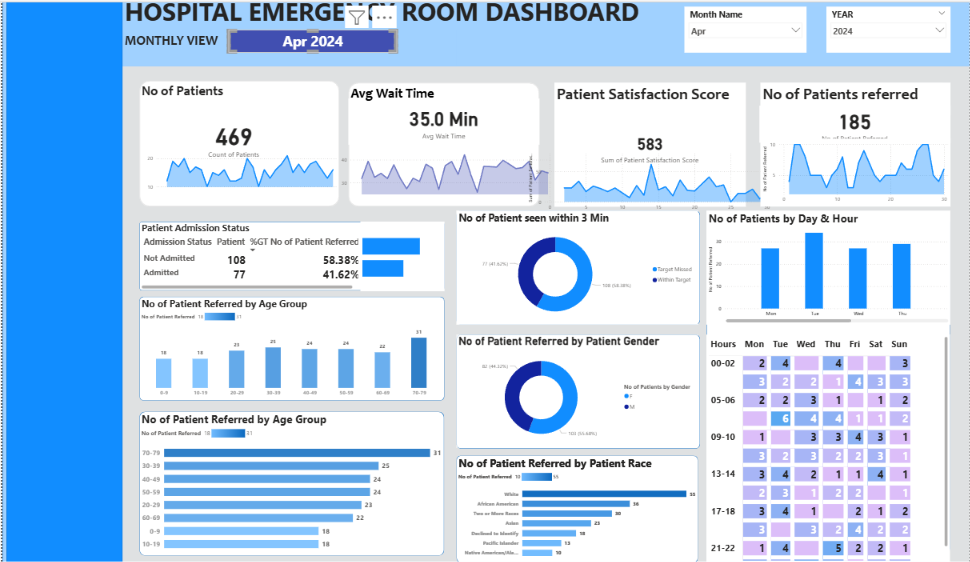

This screenshot's page, from the dashboard's own definition file:
{"tool":"powerbi","page":{"name":"Page 1","canvas":[2300,1400],"ordinal":0},"visuals":[{"type":"shape","box":[0,0,285.3,1400.5],"z":0},{"type":"shape","box":[325.7,254.4,475.5,299.6],"z":1000},{"type":"textbox","box":[325.7,254.4,675.3,202.1],"z":2000},{"type":"shape","box":[286,0,2014.5,219.4],"z":3000},{"type":"textbox","box":[286,44.4,2014.5,175.1],"z":4000},{"type":"textbox","box":[286,133.1,794,86.3],"z":5000},{"type":"shape","box":[9.9,0,276.2,1400.5],"z":6000},{"type":"card","fields":{"Values":["Hospital ER_Data.Count of Patients"]},"box":[299.6,335.3,501.7,111.8],"z":7000},{"type":"slicer","fields":{"Values":["Date Table.YEAR"]},"box":[1959.2,78.5,294.8,109.4],"z":8000},{"type":"slicer","fields":{"Values":["Date Table.Month Name"]},"box":[1621.6,78.5,290.1,109.4],"z":9000},{"type":"areaChart","fields":{"Category":["Date Table.Date.Variation.Date Hierarchy.Day"],"Y":["Hospital ER_Data.Count of Patients"]},"box":[340,392.3,461.3,128.4],"z":10000},{"type":"card","fields":{"Values":["Min(Date Table.Month & Year)"]},"box":[537.4,133.2,401.8,54.7],"z":11000},{"type":"shape","box":[822.7,259.2,454.1,294.8],"z":12000},{"type":"card","fields":{"Values":["Hospital ER_Data.Avg Wait Time"]},"box":[822.7,297.2,454.1,109.4],"z":13000},{"type":"shape","box":[1802.3,259.2,451.8,294.8],"z":14000},{"type":"textbox","box":[822.7,259.2,489.8,76.1],"z":15000},{"type":"areaChart","fields":{"Category":["Date Table.Date.Variation.Date Hierarchy.Day"],"Y":["Avg(Hospital ER_Data.Patient Waittime)"]},"box":[801.3,401.8,511.2,128.4],"z":16000},{"type":"textbox","box":[1312.5,259.2,455,294.8],"z":17000},{"type":"card","fields":{"Values":["Sum(Hospital ER_Data.Patient Satisfaction Score)"]},"box":[1312.5,356.7,454.1,114.1],"z":18000},{"type":"areaChart","fields":{"Category":["Date Table.Date.Variation.Date Hierarchy.Day"],"Y":["Sum(Hospital ER_Data.Patient Satisfaction Score)"]},"box":[1245.9,413.7,587.3,159.3],"z":19000},{"type":"shape","box":[325.7,589.7,725.2,164.1],"z":20000},{"type":"pivotTable","title":"Patient Admission Status","fields":{"Rows":["Hospital ER_Data.Admission Status"],"Values":["Hospital ER_Data.No of Patient Referred1","Hospital ER_Data.No of Patient Referred"]},"box":[325.5,589.3,525.2,165.2],"z":21000},{"type":"shape","box":[325.7,768,725.2,247.3],"z":22000},{"type":"card","fields":{"Values":["Hospital ER_Data.No of Patient Referred"]},"box":[1799.9,313.9,454.1,88],"z":23000},{"type":"textbox","box":[1802.3,259.2,451.8,76.1],"z":24000},{"type":"areaChart","fields":{"Y":["Hospital ER_Data.No of Patient Referred"],"Category":["Date Table.Date.Variation.Date Hierarchy.Day"]},"box":[1802.3,392.3,451.8,161.7],"z":25000},{"type":"barChart","fields":{"Category":["Hospital ER_Data.Admission Status"],"Y":["Hospital ER_Data.No of Patient Referred"]},"box":[1277.2,577,165.2,123.3],"z":26000},{"type":"clusteredColumnChart","fields":{"Category":["Hospital ER_Data.Age Group"],"Y":["Hospital ER_Data.No of Patient Referred"]},"box":[325.7,768,725.2,247.3],"z":27000},{"type":"shape","box":[325.5,1040.5,724.9,342.7],"z":28000},{"type":"clusteredBarChart","fields":{"Y":["Hospital ER_Data.No of Patient Referred"],"Category":["Hospital ER_Data.Age Group"]},"box":[325.5,1040.5,724.9,342.7],"z":29000},{"type":"shape","box":[1080,564.6,579.4,271.2],"z":30000},{"type":"shape","box":[1080,858.1,579.4,271.2],"z":31000},{"type":"shape","box":[1080,1146.6,574.5,254],"z":32000},{"type":"donutChart","fields":{"Category":["Hospital ER_Data.Patient Gender"],"Y":["Hospital ER_Data.No of Patient Referred"]},"box":[1080,858.1,574.5,268.8],"z":33000},{"type":"clusteredBarChart","fields":{"Category":["Hospital ER_Data.Patient Race"],"Y":["Hospital ER_Data.No of Patient Referred"]},"box":[1080,1146.6,574.5,254],"z":34000},{"type":"shape","box":[1674.2,574.5,579.4,808.8],"z":35000},{"type":"clusteredBarChart","fields":{"Category":["Hospital ER_Data.Patient Race"],"Y":["Hospital ER_Data.No of Patient Referred"]},"box":[1080,1146,574.5,254],"z":36000},{"type":"pivotTable","fields":{"Rows":["Hospital ER_Data.Waittime Interval"],"Columns":["Date Table.Day Nmae"],"Values":["Hospital ER_Data.No of Patient Referred"]},"box":[1674.2,858.1,579.4,542.5],"z":37000},{"type":"columnChart","title":"No of Patients by Day & Hour","fields":{"Category":["Date Table.Day Nmae"],"Y":["Hospital ER_Data.No of Patient Referred"]},"box":[1673.9,563.5,580.2,271.1],"z":38000},{"type":"donutChart","title":"No of Patient seen within 3 Min","fields":{"Category":["Hospital ER_Data.Waititime Status"],"Y":["Hospital ER_Data.No of Patient Referred"]},"box":[1080,564.6,574.5,271.2],"z":39000},{"type":"barChart","fields":{"Y":["Hospital ER_Data.No of Patient Referred"],"Category":["Hospital ER_Data.Admission Status"]},"box":[850.7,589.3,199.7,165.2],"z":40000}]}

Visuals, with their boxes on the page's 2300x1400 design canvas (x1, y1, x2, y2). These are canvas units, not pixel positions in the 970x562 screenshot, which may show the page scaled, cropped or inside an application window:
shape: {"left": 0, "top": 0, "right": 285, "bottom": 1400}
shape: {"left": 326, "top": 254, "right": 801, "bottom": 554}
textbox: {"left": 326, "top": 254, "right": 1001, "bottom": 456}
shape: {"left": 286, "top": 0, "right": 2300, "bottom": 219}
textbox: {"left": 286, "top": 44, "right": 2300, "bottom": 220}
textbox: {"left": 286, "top": 133, "right": 1080, "bottom": 219}
shape: {"left": 10, "top": 0, "right": 286, "bottom": 1400}
card - Hospital ER_Data.Count of Patients: {"left": 300, "top": 335, "right": 801, "bottom": 447}
slicer - Date Table.YEAR: {"left": 1959, "top": 78, "right": 2254, "bottom": 188}
slicer - Date Table.Month Name: {"left": 1622, "top": 78, "right": 1912, "bottom": 188}
areaChart - Date Table.Date.Variation.Date Hierarchy.Day x Hospital ER_Data.Count of Patients: {"left": 340, "top": 392, "right": 801, "bottom": 521}
card - Min(Date Table.Month & Year): {"left": 537, "top": 133, "right": 939, "bottom": 188}
shape: {"left": 823, "top": 259, "right": 1277, "bottom": 554}
card - Hospital ER_Data.Avg Wait Time: {"left": 823, "top": 297, "right": 1277, "bottom": 407}
shape: {"left": 1802, "top": 259, "right": 2254, "bottom": 554}
textbox: {"left": 823, "top": 259, "right": 1312, "bottom": 335}
areaChart - Date Table.Date.Variation.Date Hierarchy.Day x Avg(Hospital ER_Data.Patient Waittime): {"left": 801, "top": 402, "right": 1312, "bottom": 530}
textbox: {"left": 1312, "top": 259, "right": 1768, "bottom": 554}
card - Sum(Hospital ER_Data.Patient Satisfaction Score): {"left": 1312, "top": 357, "right": 1767, "bottom": 471}
areaChart - Date Table.Date.Variation.Date Hierarchy.Day x Sum(Hospital ER_Data.Patient Satisfaction Score): {"left": 1246, "top": 414, "right": 1833, "bottom": 573}
shape: {"left": 326, "top": 590, "right": 1051, "bottom": 754}
"Patient Admission Status" pivotTable: {"left": 326, "top": 589, "right": 851, "bottom": 754}
shape: {"left": 326, "top": 768, "right": 1051, "bottom": 1015}
card - Hospital ER_Data.No of Patient Referred: {"left": 1800, "top": 314, "right": 2254, "bottom": 402}
textbox: {"left": 1802, "top": 259, "right": 2254, "bottom": 335}
areaChart - Hospital ER_Data.No of Patient Referred x Date Table.Date.Variation.Date Hierarchy.Day: {"left": 1802, "top": 392, "right": 2254, "bottom": 554}
barChart - Hospital ER_Data.Admission Status x Hospital ER_Data.No of Patient Referred: {"left": 1277, "top": 577, "right": 1442, "bottom": 700}
clusteredColumnChart - Hospital ER_Data.Age Group x Hospital ER_Data.No of Patient Referred: {"left": 326, "top": 768, "right": 1051, "bottom": 1015}
shape: {"left": 326, "top": 1040, "right": 1050, "bottom": 1383}
clusteredBarChart - Hospital ER_Data.No of Patient Referred x Hospital ER_Data.Age Group: {"left": 326, "top": 1040, "right": 1050, "bottom": 1383}
shape: {"left": 1080, "top": 565, "right": 1659, "bottom": 836}
shape: {"left": 1080, "top": 858, "right": 1659, "bottom": 1129}
shape: {"left": 1080, "top": 1147, "right": 1654, "bottom": 1401}
donutChart - Hospital ER_Data.Patient Gender x Hospital ER_Data.No of Patient Referred: {"left": 1080, "top": 858, "right": 1654, "bottom": 1127}
clusteredBarChart - Hospital ER_Data.Patient Race x Hospital ER_Data.No of Patient Referred: {"left": 1080, "top": 1147, "right": 1654, "bottom": 1401}
shape: {"left": 1674, "top": 574, "right": 2254, "bottom": 1383}
clusteredBarChart - Hospital ER_Data.Patient Race x Hospital ER_Data.No of Patient Referred: {"left": 1080, "top": 1146, "right": 1654, "bottom": 1400}
pivotTable - Hospital ER_Data.Waittime Interval x Date Table.Day Nmae: {"left": 1674, "top": 858, "right": 2254, "bottom": 1401}
"No of Patients by Day & Hour" columnChart: {"left": 1674, "top": 564, "right": 2254, "bottom": 835}
"No of Patient seen within 3 Min" donutChart: {"left": 1080, "top": 565, "right": 1654, "bottom": 836}
barChart - Hospital ER_Data.No of Patient Referred x Hospital ER_Data.Admission Status: {"left": 851, "top": 589, "right": 1050, "bottom": 754}
